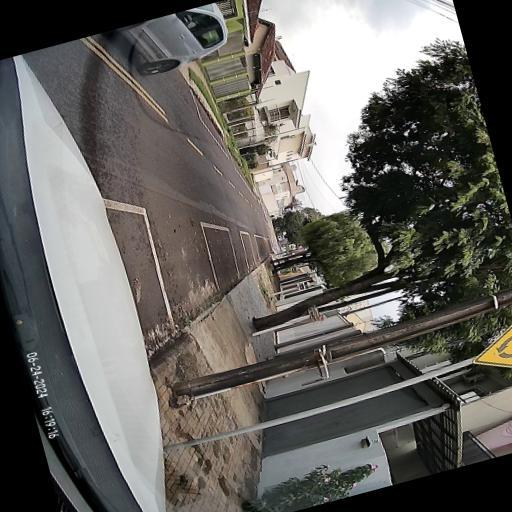A-12: (464, 313, 512, 378)
